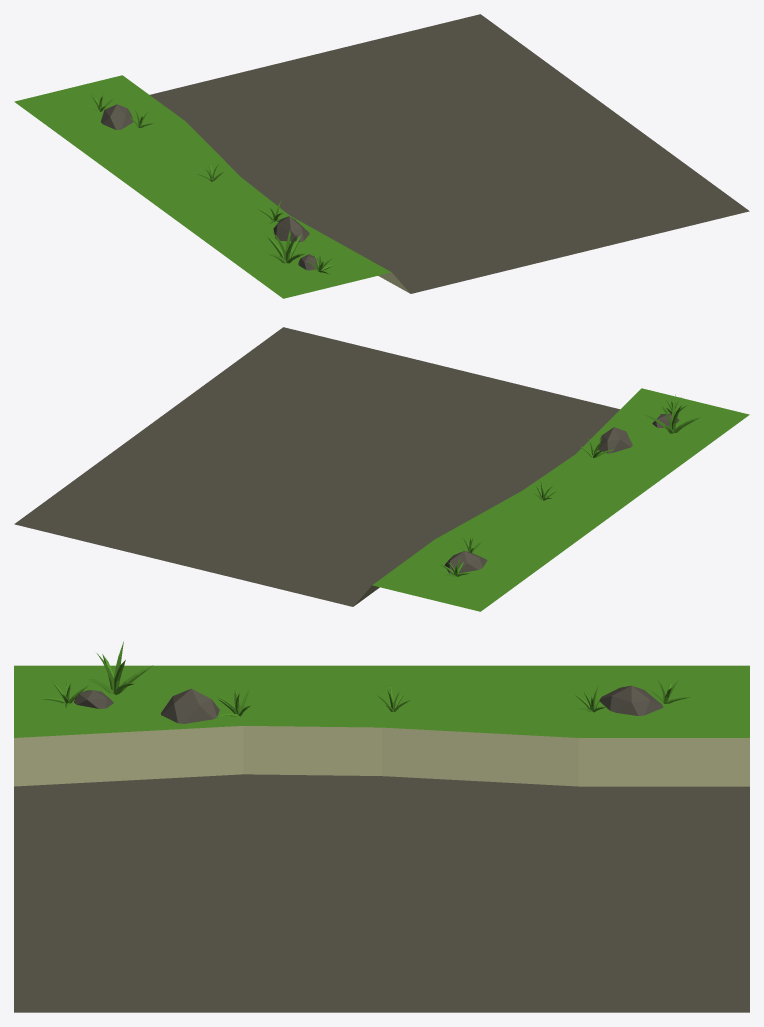
The model's file is CemeteryStraight.fbx.
The picture shows the model from 3 angles, top to bottom: view 1: azimuth 30°, elevation 25°; view 2: azimuth 150°, elevation 25°; view 3: azimuth 270°, elevation 25°; orthographic projection. The views are drawn at different scales.
Visible parts, largest first — view 1: CemeteryStraight; view 2: CemeteryStraight; view 3: CemeteryStraight.
Boxes of the visible parts, bbox=[...] form: CemeteryStraight: bbox=[14, 14, 749, 298]; CemeteryStraight: bbox=[14, 327, 749, 611]; CemeteryStraight: bbox=[14, 641, 749, 1012].
Size of the model in its own units: 500 by 60 by 500.
